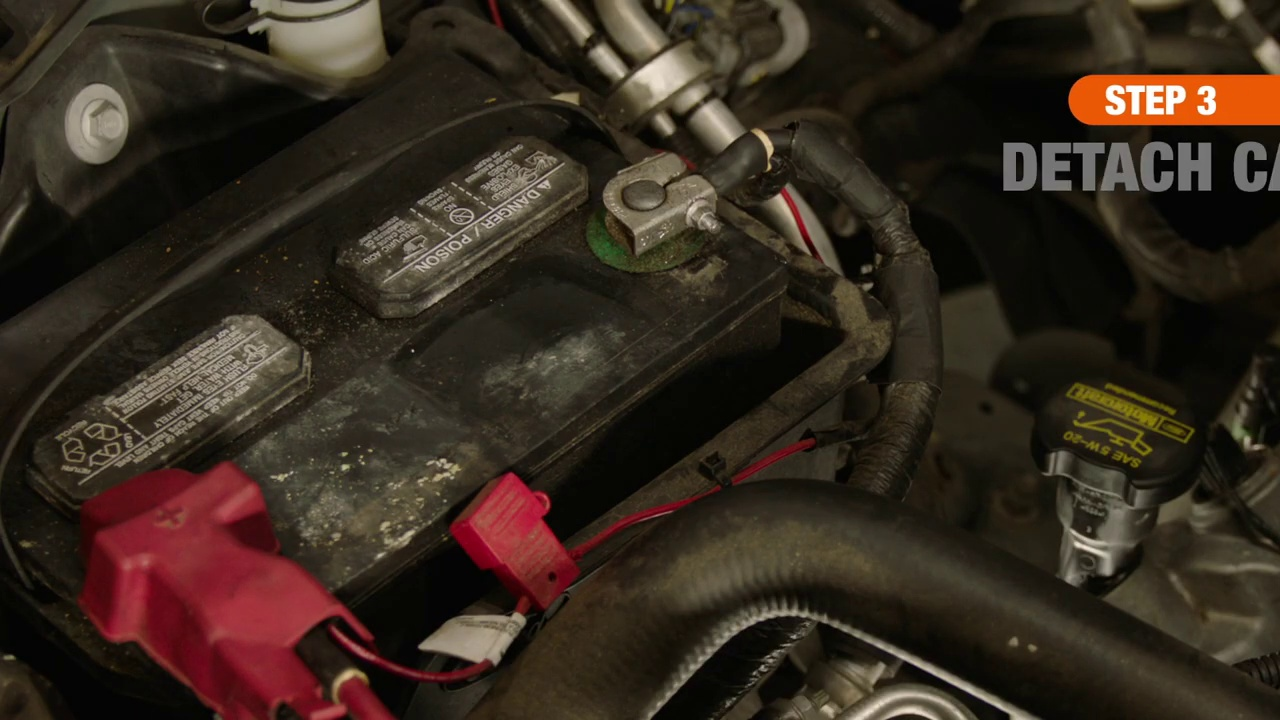battery: (2, 59, 801, 697)
neg_connected: (563, 113, 789, 283)
pos_connected: (37, 412, 379, 700)
